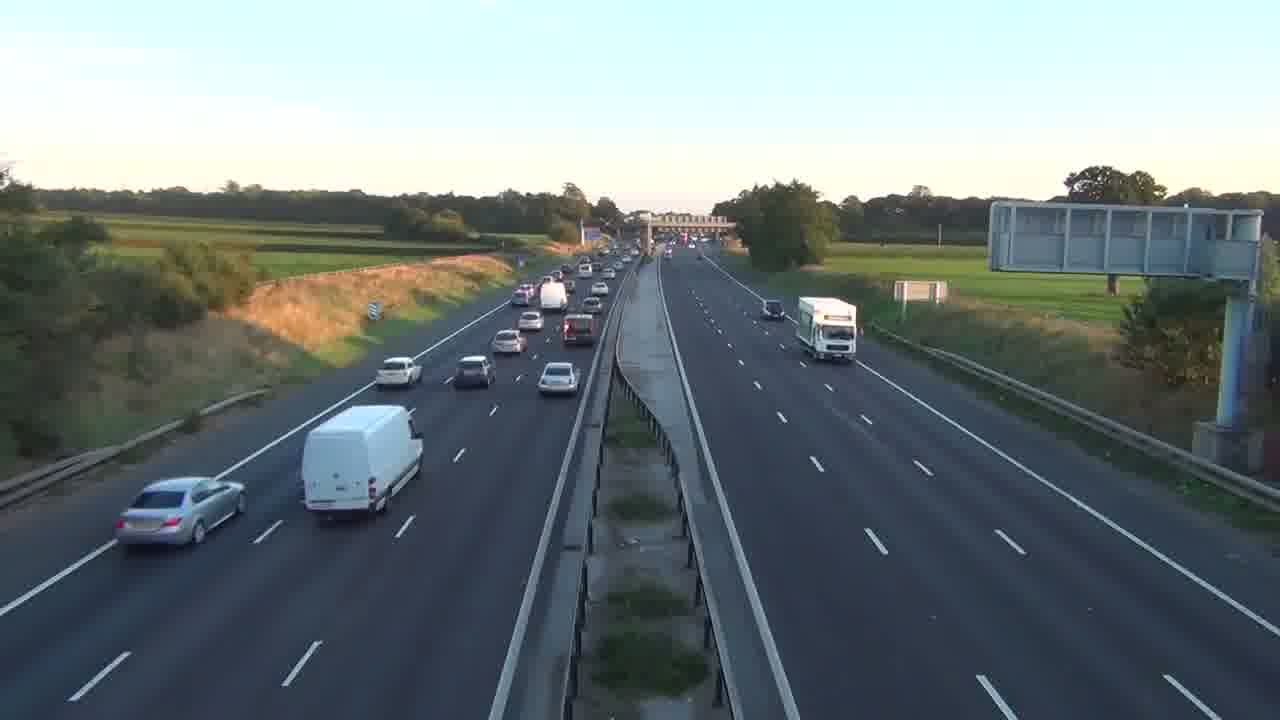car: (112, 475, 247, 549), (375, 354, 424, 389), (537, 360, 579, 397), (453, 354, 497, 389), (491, 328, 527, 354), (763, 299, 785, 319)
truck: (300, 403, 423, 521), (795, 296, 860, 362)
